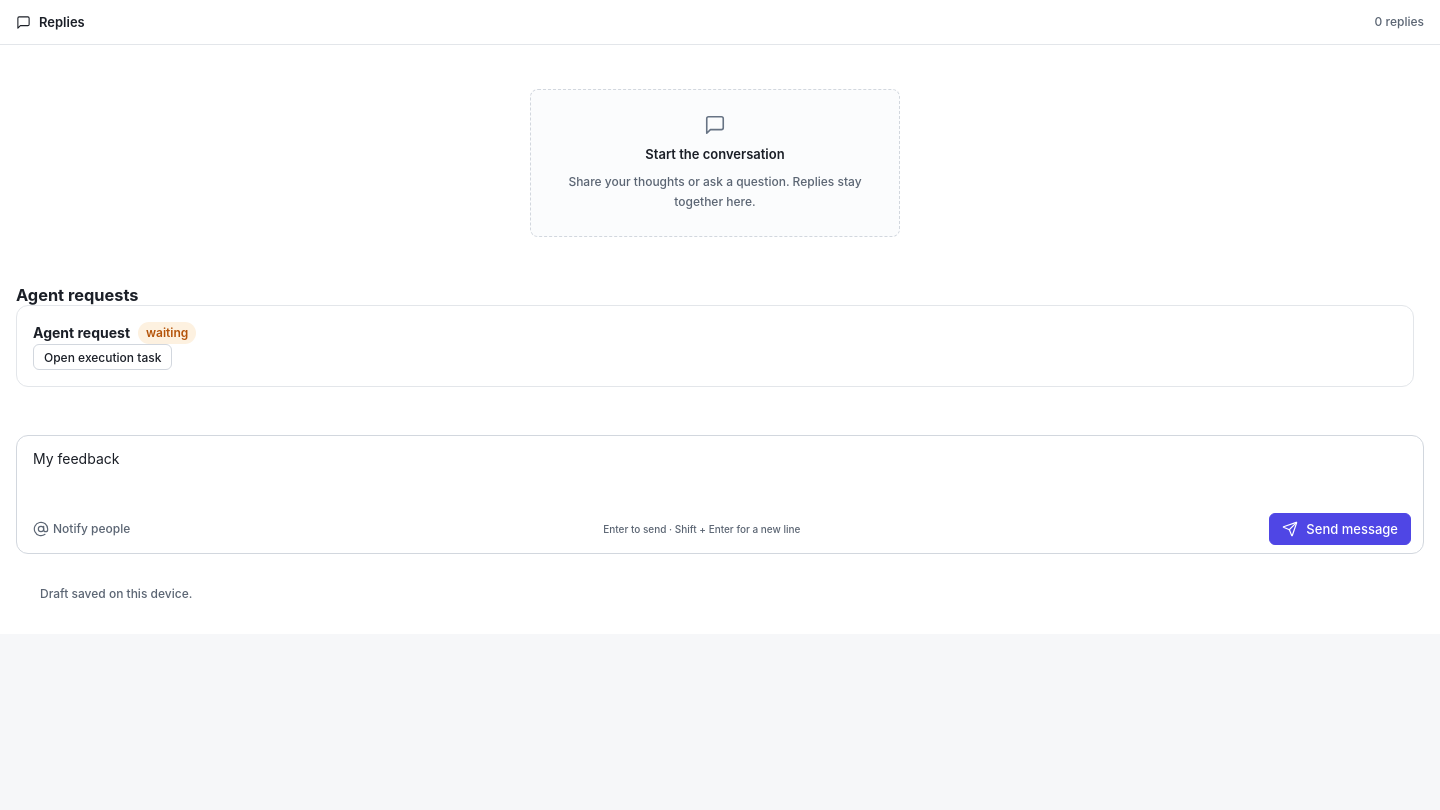
RoomConversation › converts stored assistant drafts to team replies and hides coordinator-owned turn actions in planning threads
This screenshot has width=1440, height=810.
Expected: the text box named "Message" holds "My feedback", x1=17 y1=436 x2=1423 y2=505
Expected: the text box named "Message" is enabled, x1=17 y1=436 x2=1423 y2=505
Click the button "Send message" at (1340, 529), box x1=1269 y1=513 x2=1411 y2=545
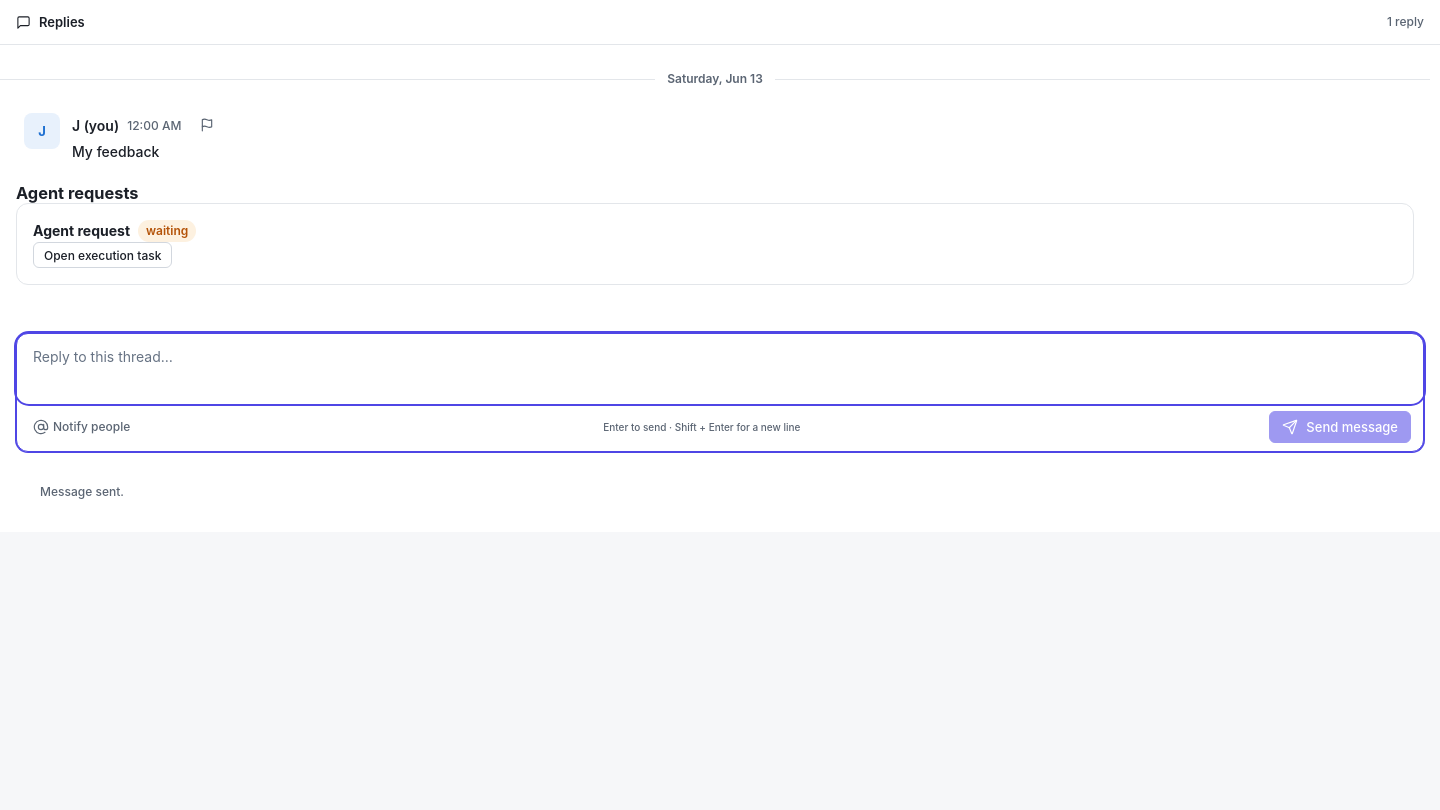
Now the text "Message sent." is shown, box x1=40 y1=484 x2=124 y2=499
